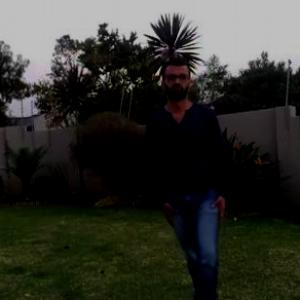follow: (147, 36, 235, 299)
